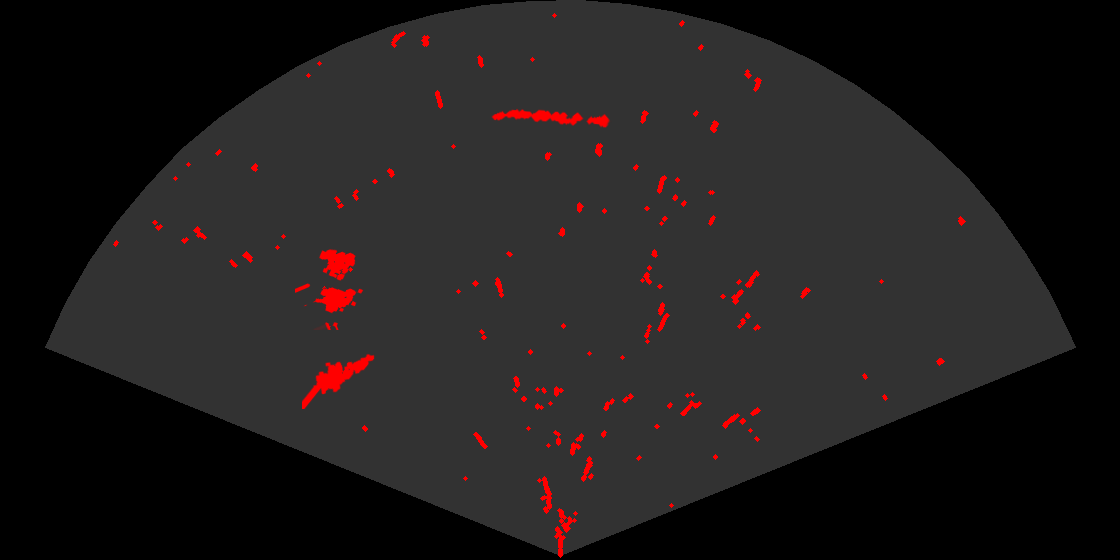cage: (295, 247, 365, 330)
chain: (490, 107, 612, 129)
frogman: (302, 352, 376, 409)
